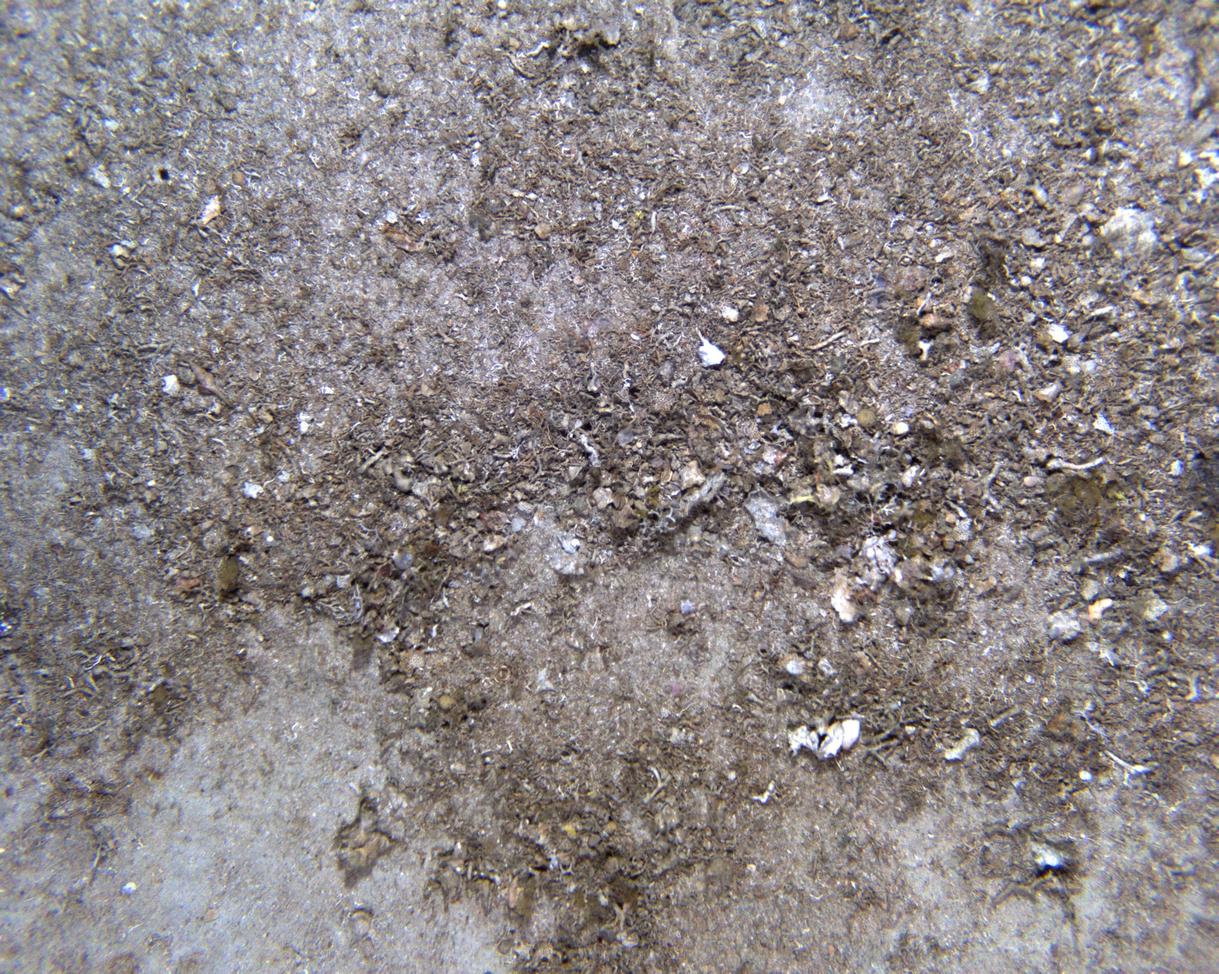Brachionichthyidae: (502, 864, 534, 910)
